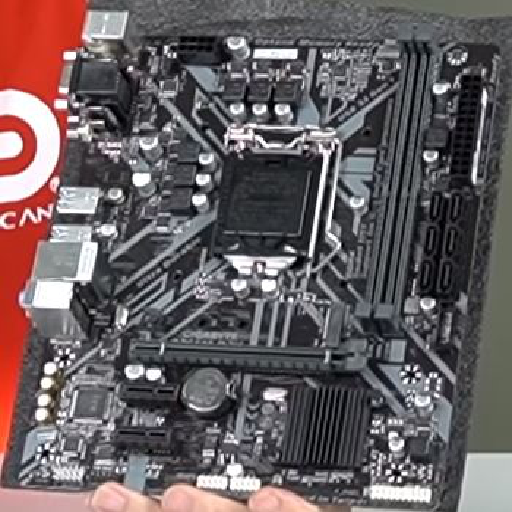CPU: (214, 125, 327, 282)
GPU: (128, 335, 370, 375)
MOTHERBOARD: (10, 19, 500, 510)
RAM: (356, 25, 435, 333)
SSD: (317, 300, 349, 346)
